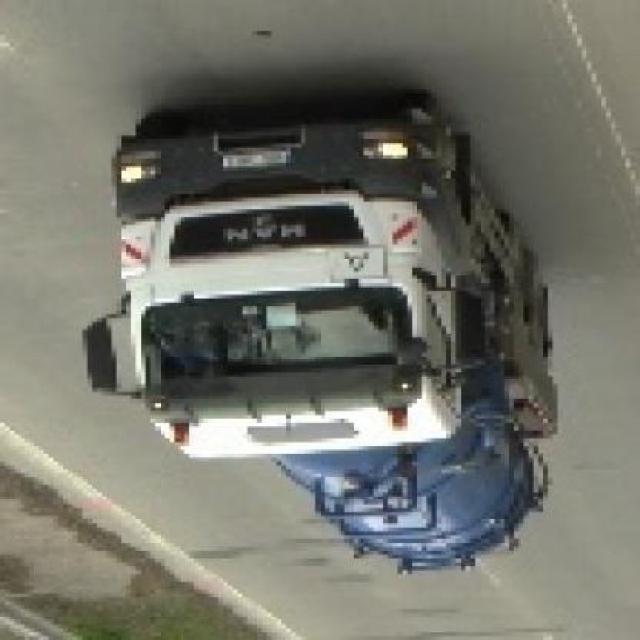truck: (79, 98, 554, 579)
